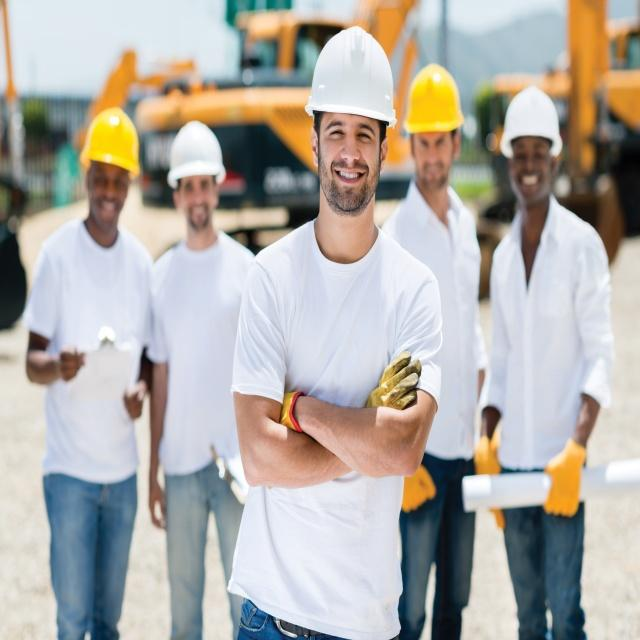helmet: (306, 27, 397, 294), (502, 109, 560, 279), (406, 84, 463, 248), (82, 142, 140, 302), (167, 152, 223, 308)
